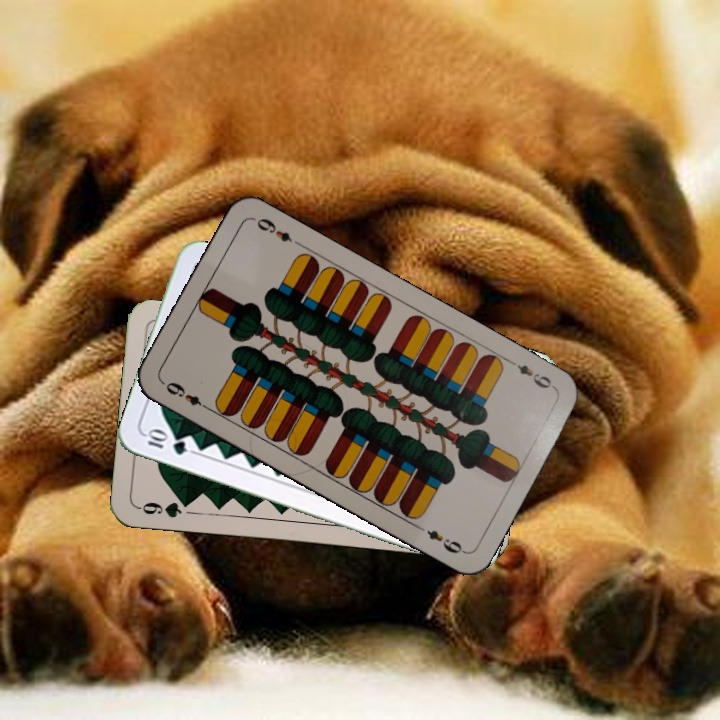E9: (159, 377, 213, 413), (504, 357, 558, 392)
G10: (142, 426, 190, 458)
G9: (134, 496, 194, 521)
